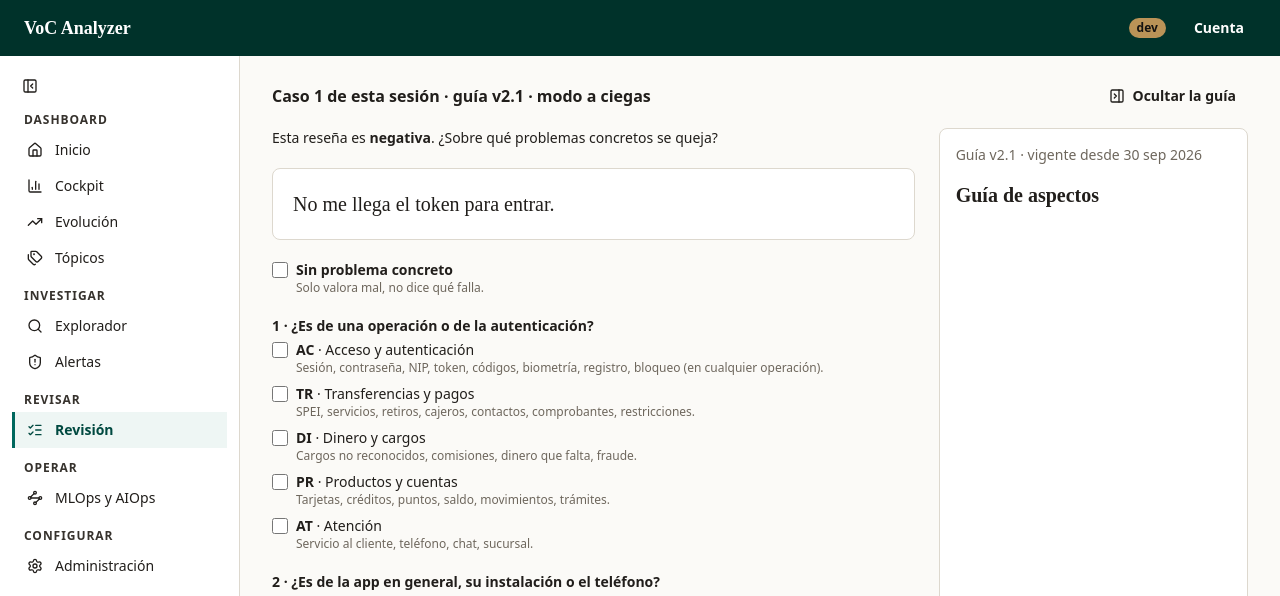
revisión de aspectos › guarda familias y marcas y pasa al siguiente
Expected: the heading "Caso 1 de esta sesión · guía v2.1 · modo a ciegas" is shown, x1=272 y1=84 x2=651 y2=108
Click the checkbox labelled "Acceso y autenticación": (280, 350) x1=272 y1=342 x2=288 y2=358
(page scrolled)
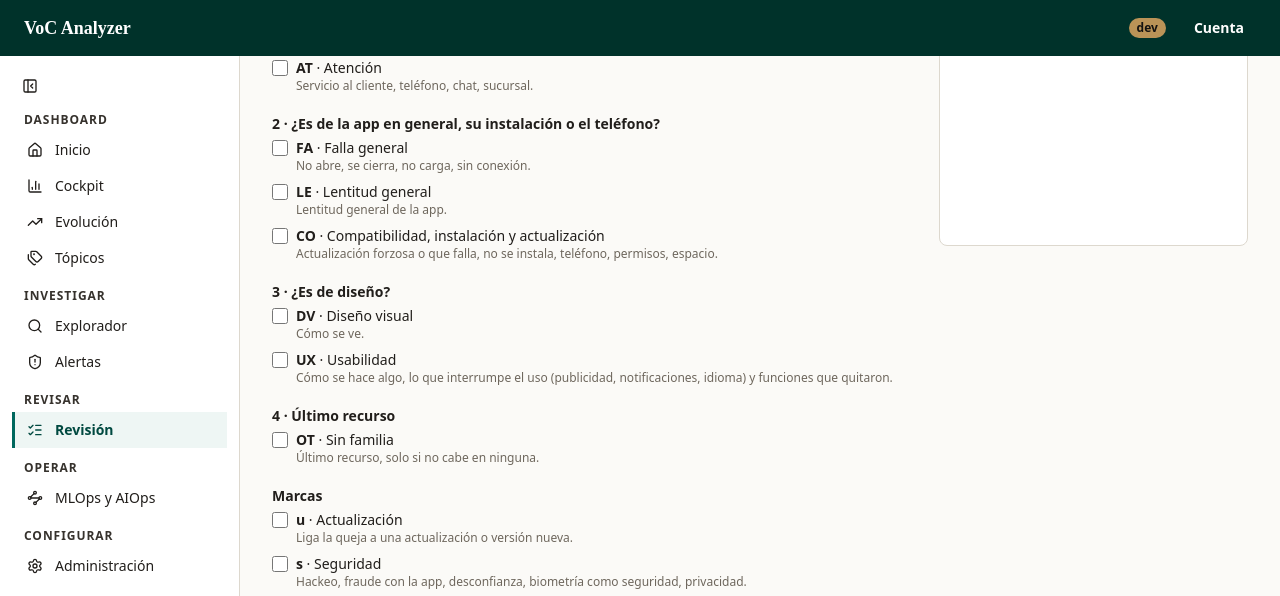
Click the checkbox labelled "Usabilidad": (280, 360) x1=272 y1=352 x2=288 y2=368
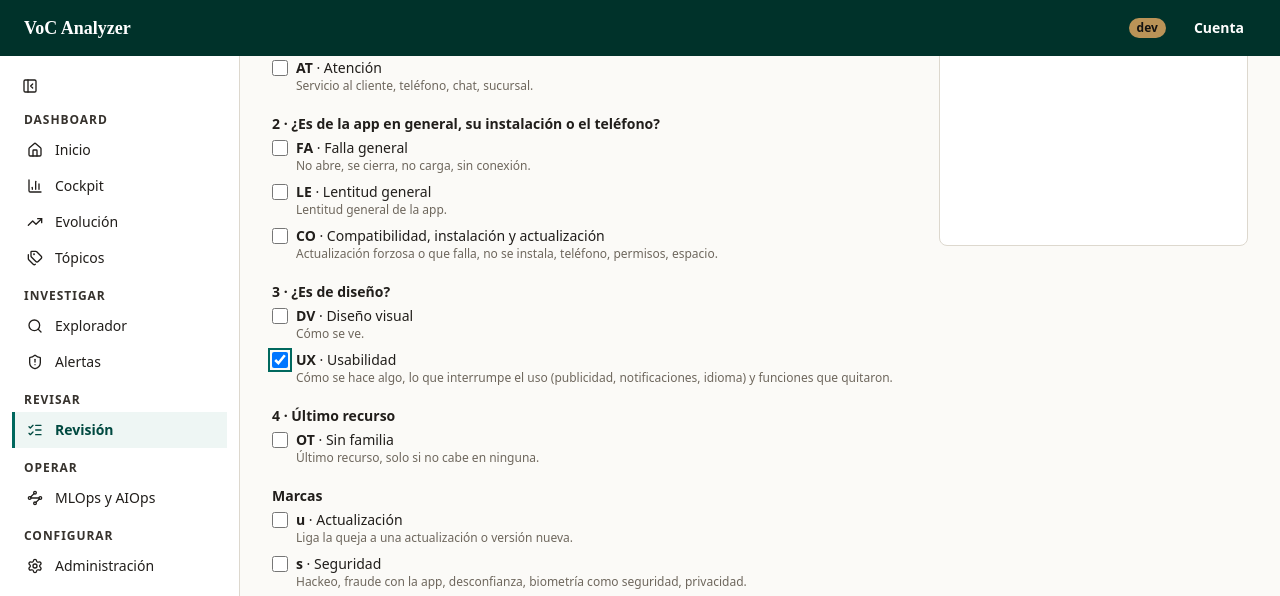
Type keys "u"
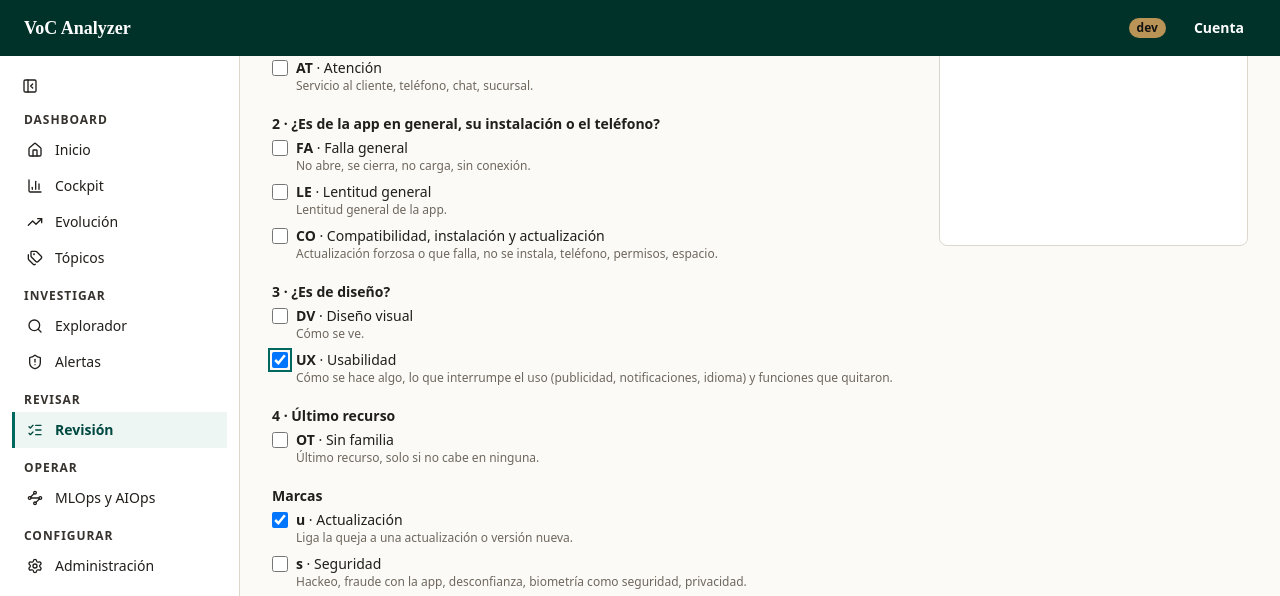
Type keys "e"
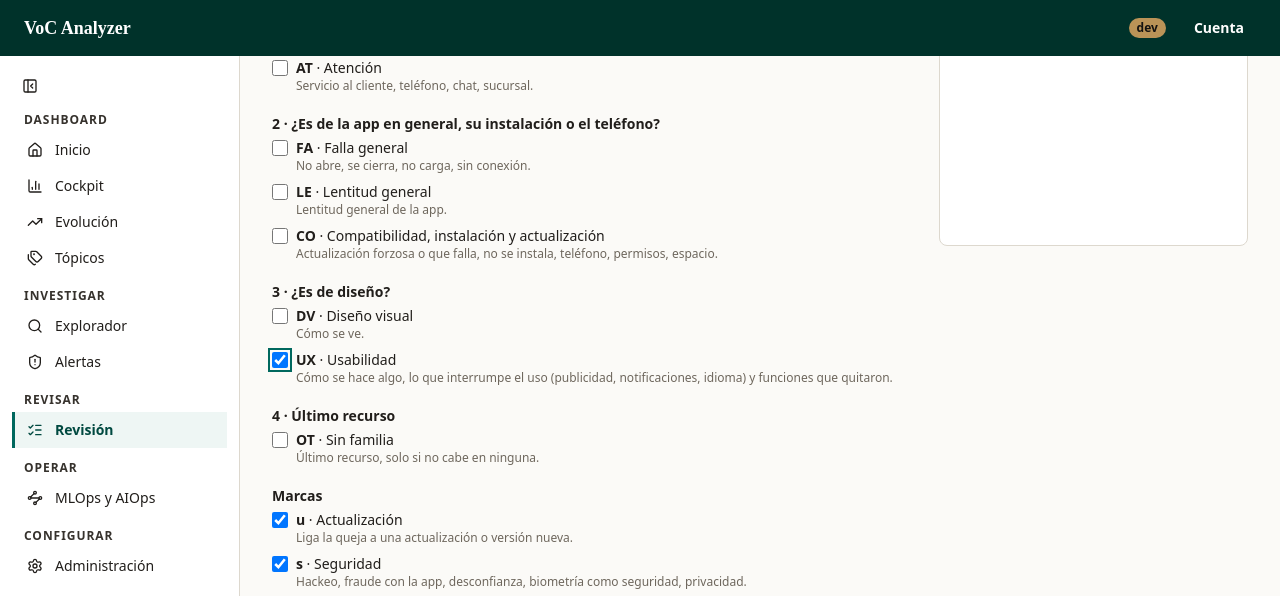
Press Enter
(page scrolled)
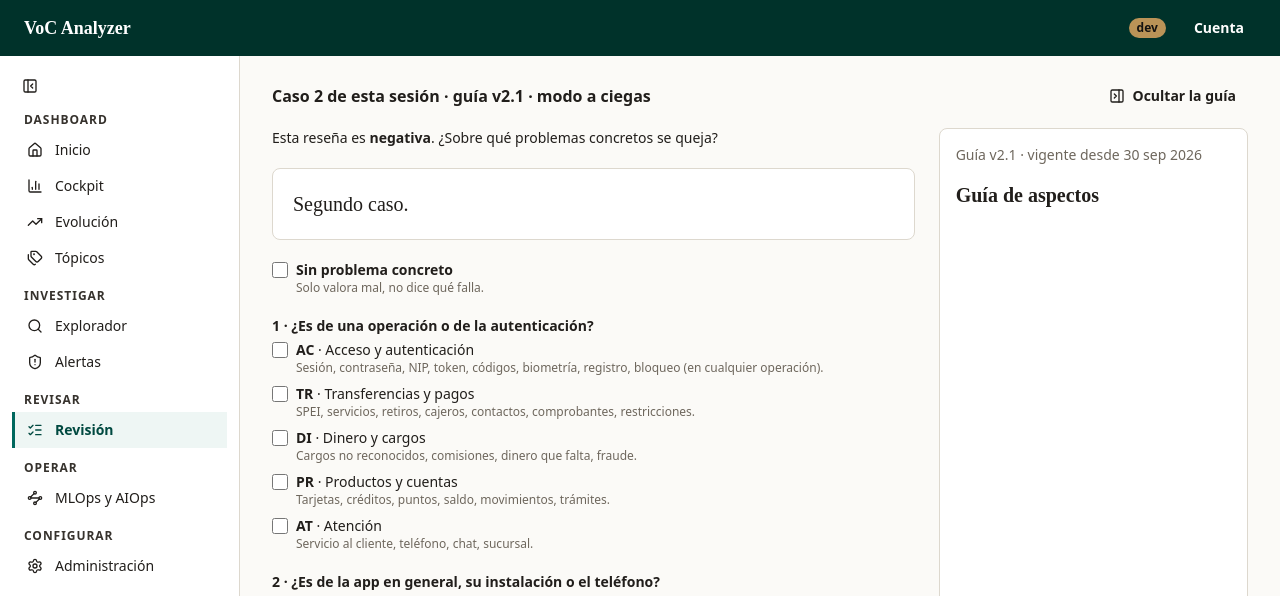
Now the heading "Caso 2 de esta sesión · guía v2.1 · modo a ciegas" is shown, box x1=272 y1=84 x2=651 y2=108
